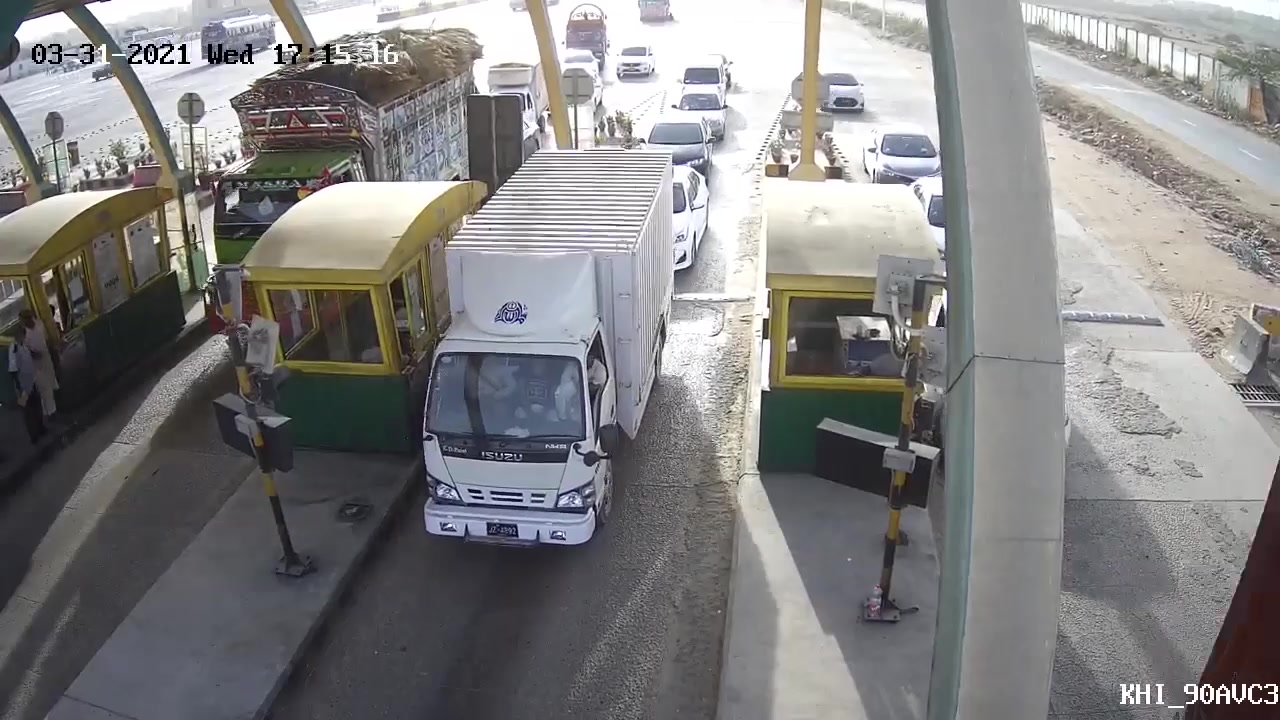F5: (398, 153, 685, 568)
